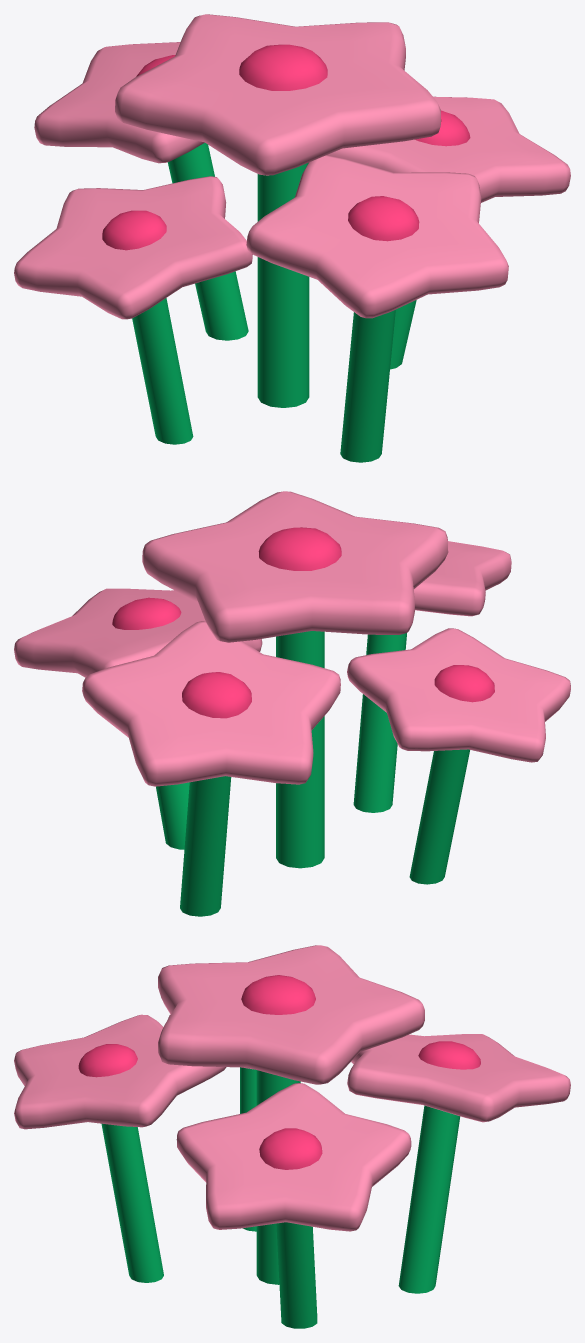
The model's file is Farm_3_Flowers_1.glb.
3 renders of one model, top to bottom at view 1: azimuth 30°, elevation 25°; view 2: azimuth 150°, elevation 25°; view 3: azimuth 270°, elevation 25°, orthographic. The views are drawn at different scales.
Parts seen in each view (by area): view 1: Farm_3_Flowers_1; view 2: Farm_3_Flowers_1; view 3: Farm_3_Flowers_1.
Part boxes in pixels (x1,y1,x2,y2): Farm_3_Flowers_1: (14, 14, 570, 462); Farm_3_Flowers_1: (14, 491, 570, 916); Farm_3_Flowers_1: (14, 945, 570, 1328).
Bounding box in the file's own units: 0.3948 × 0.2492 × 0.4273.
Materials: 1 (1 with a texture image).
